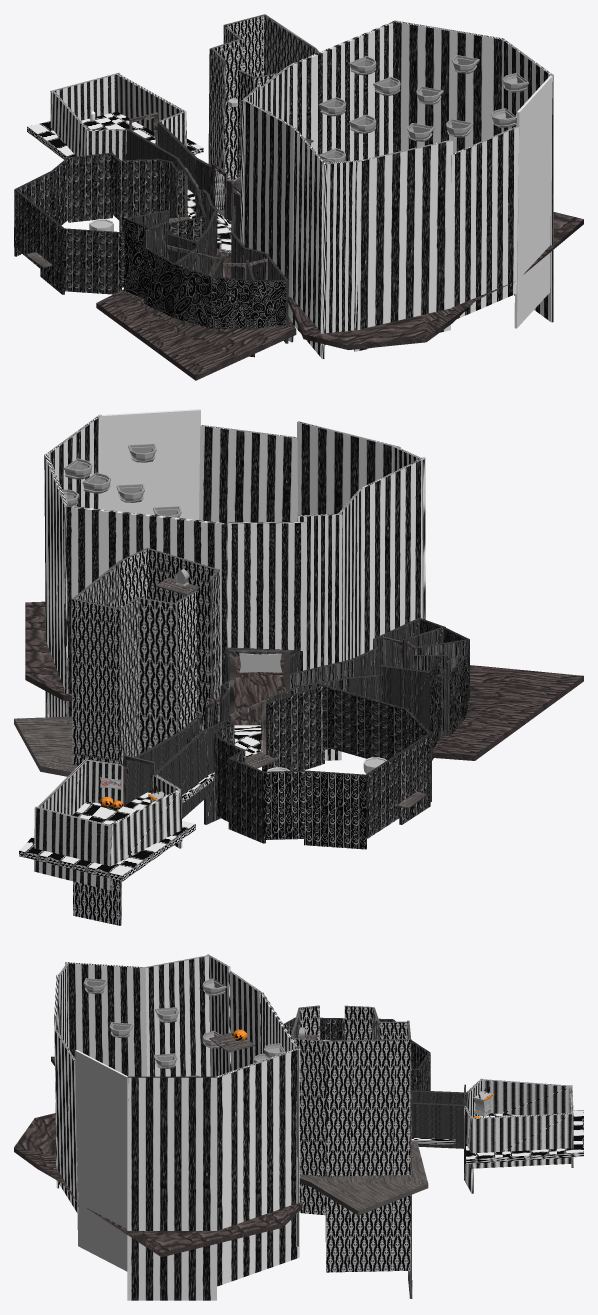
The model's file is STAGE 2ND EXPORT.fbx.
The picture shows the model from 3 angles, top to bottom: view 1: azimuth 30°, elevation 25°; view 2: azimuth 150°, elevation 25°; view 3: azimuth 270°, elevation 25°; orthographic projection. The views are drawn at different scales.
Parts seen in each view (by area): view 1: WALL__40_, WALL__39_, pCube3, pCube2, WALL__43_, WALL__38_, pCube15, WALL__41_, WALL__42_, pCube19, WALL__22_, pCube1 (+37 smaller); view 2: WALL__44_1, pCube2, WALL__42_, WALL__10_, WALL__38_, WALL__39_, pCube15, WALL__40_, WALL__44_, WALL__12_, WALL__21_, pCube3 (+38 smaller); view 3: pCube1, WALL__9_, pCube3, WALL__38_, WALL__42_, WALL__43_, pCube19, WALL__8_, WALL, pCube16, WALL__39_, WALL__1_ (+14 smaller).
Boxes of the visible parts, x1,y1,x2,y2 form: WALL__40_: [354, 139, 452, 351]; WALL__39_: [451, 126, 518, 318]; pCube3: [395, 21, 504, 152]; pCube2: [287, 20, 397, 161]; WALL__43_: [243, 99, 295, 342]; WALL__38_: [514, 75, 552, 328]; pCube15: [96, 251, 296, 380]; WALL__41_: [320, 160, 361, 345]; WALL__42_: [291, 128, 326, 359]; pCube19: [288, 212, 583, 349]; WALL__22_: [61, 228, 122, 294]; pCube1: [502, 39, 553, 322]; WALL__44_1: [227, 522, 306, 650]; pCube2: [64, 505, 227, 716]; WALL__42_: [360, 457, 425, 653]; WALL__10_: [71, 598, 121, 925]; WALL__38_: [100, 409, 200, 520]; WALL__39_: [199, 425, 297, 545]; pCube15: [432, 665, 583, 760]; WALL__40_: [297, 421, 400, 515]; WALL__44_: [297, 513, 342, 760]; WALL__12_: [136, 597, 178, 754]; WALL__21_: [322, 685, 405, 760]; pCube3: [44, 454, 68, 717]; pCube1: [127, 1076, 216, 1300]; WALL__9_: [325, 1039, 410, 1272]; pCube3: [216, 1049, 299, 1286]; WALL__38_: [75, 1050, 128, 1271]; WALL__42_: [65, 962, 147, 1076]; WALL__43_: [145, 955, 210, 1076]; pCube19: [14, 1113, 302, 1257]; WALL__8_: [292, 1038, 326, 1215]; WALL: [470, 1113, 571, 1168]; pCube16: [299, 1142, 428, 1215]; WALL__39_: [54, 1030, 78, 1214]; WALL__1_: [482, 1079, 570, 1115].
Bounding box in the file's own units: 7278 × 4852 × 8764.
